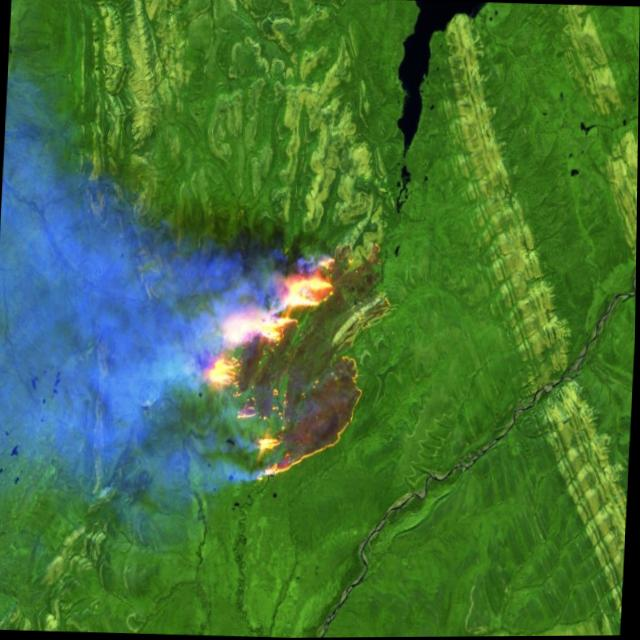fire: (193, 235, 397, 491)
